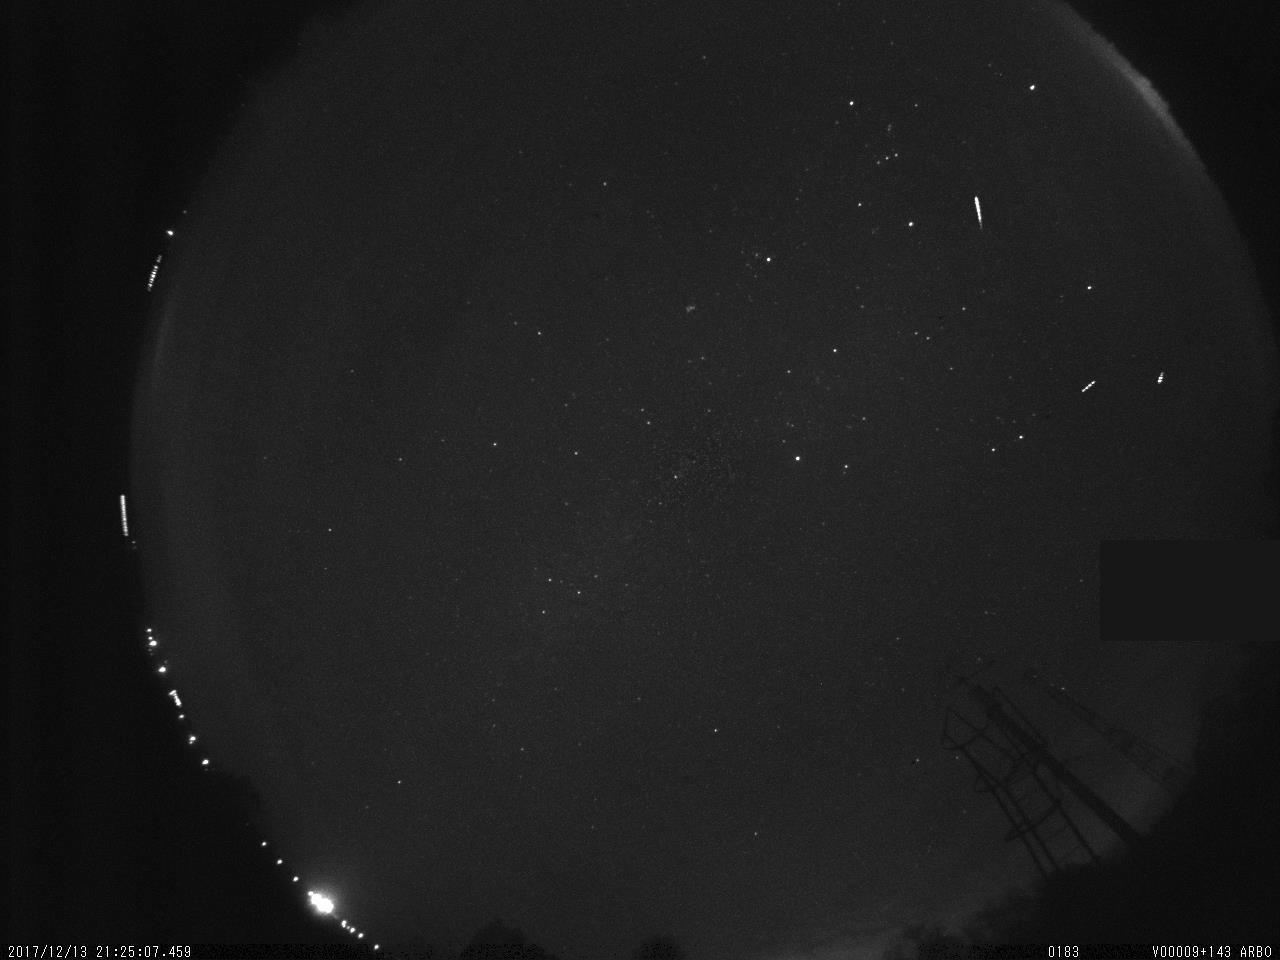meteor: (967, 189, 991, 234)
satelite: (1079, 372, 1100, 396), (1152, 366, 1171, 389)
